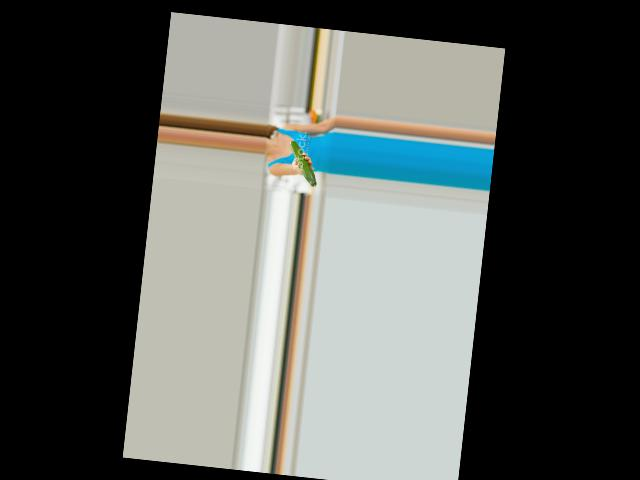cucumber: (286, 140, 321, 186)
